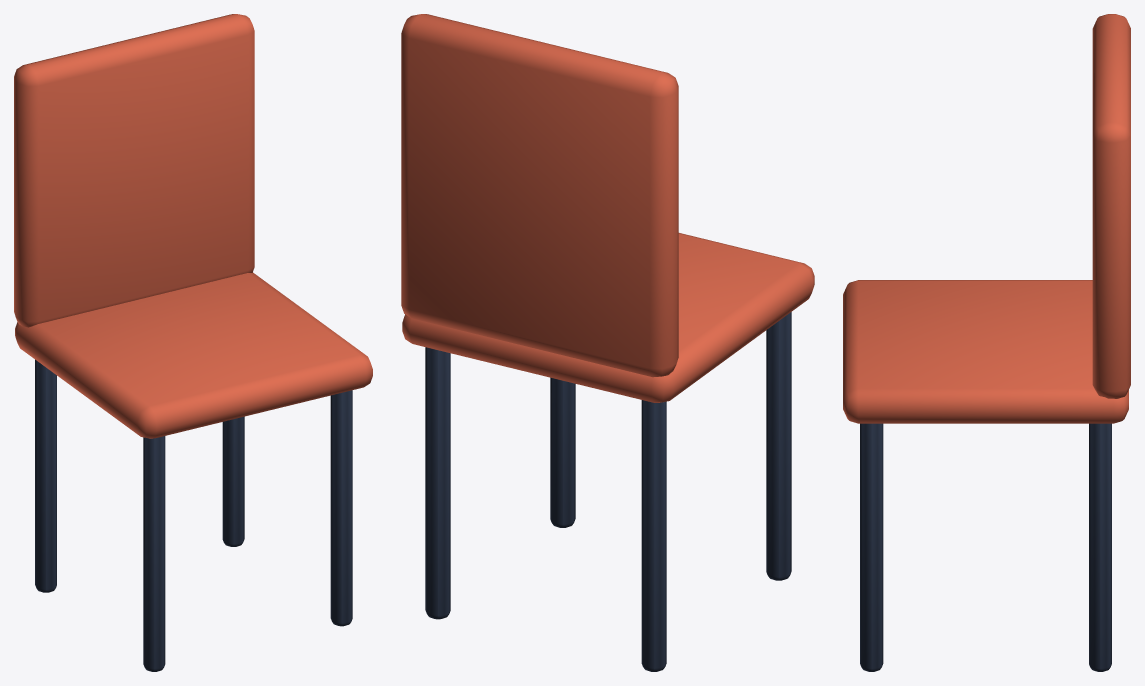
The model's file is f_chair_coral.glb.
3 renders of one model, left to right at view 1: azimuth 30°, elevation 25°; view 2: azimuth 150°, elevation 25°; view 3: azimuth 270°, elevation 25°, orthographic. The views are drawn at different scales.
Visible parts, largest first — view 1: f_chair_coral; view 2: f_chair_coral; view 3: f_chair_coral.
Part boxes in pixels (<box>): f_chair_coral: <box>14,14,372,671</box>; f_chair_coral: <box>401,14,814,671</box>; f_chair_coral: <box>843,14,1130,671</box>.
Bounding box in the file's own units: 0.75 × 1.6 × 0.755.
